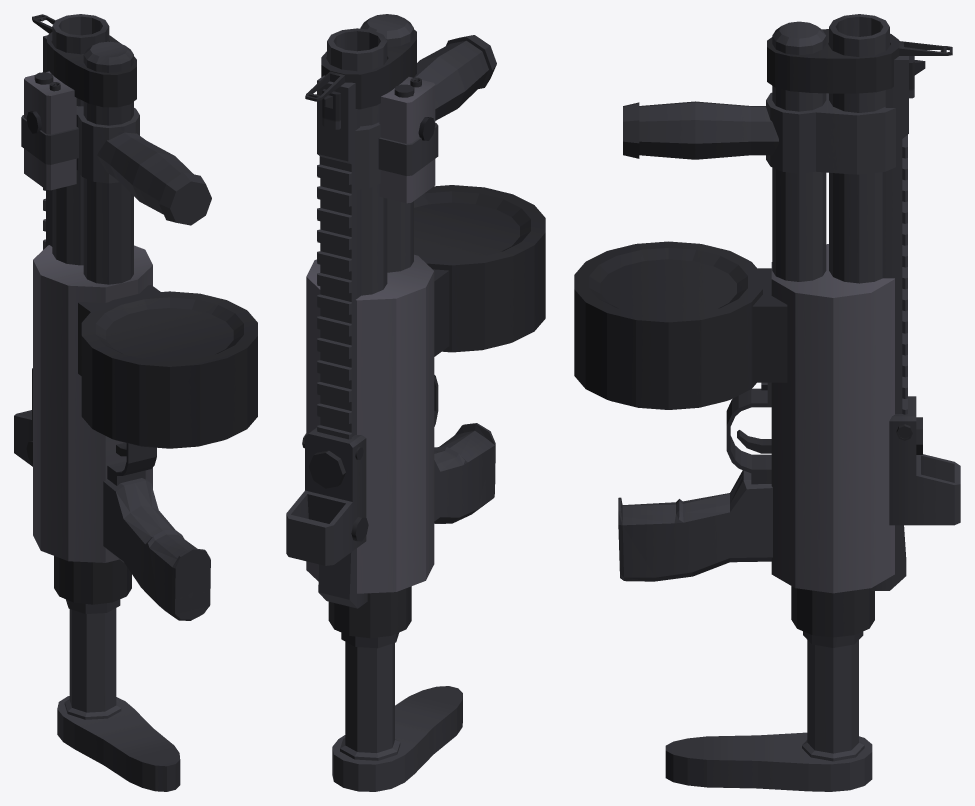
Rendered from GrenadeLauncher.FBX.
3 renders of one model, left to right at view 1: azimuth 30°, elevation 25°; view 2: azimuth 150°, elevation 25°; view 3: azimuth 270°, elevation 25°, orthographic. The views are drawn at different scales.
Visible parts, largest first — view 1: GL_base, GL_Mag001, GL_Stock, GL_LaserPointer, GL_Holosight, GL_StockMount; view 2: GL_base, GL_Mag001, GL_Stock, GL_Holosight, GL_LaserPointer, GL_StockMount, GL_Sight; view 3: GL_base, GL_Mag001, GL_Stock, GL_Holosight.
Boxes of the visible parts, x1,y1,x2,y2 form: GL_base: (33,14,211,620); GL_Mag001: (78,285,257,448); GL_Stock: (57,608,180,791); GL_LaserPointer: (21,71,78,190); GL_Holosight: (14,368,32,466); GL_StockMount: (66,599,120,613); GL_base: (306,14,496,638); GL_Mag001: (414,185,545,356); GL_Stock: (332,642,462,791); GL_Holosight: (286,427,368,565); GL_LaserPointer: (378,77,438,203); GL_StockMount: (341,632,399,648); GL_Sight: (305,71,344,101); GL_base: (618,14,925,637); GL_Mag001: (574,241,787,409); GL_Stock: (665,640,872,791); GL_Holosight: (889,396,960,525).
Size of the model in its own units: 0.3661 by 1.58 by 0.7382.
